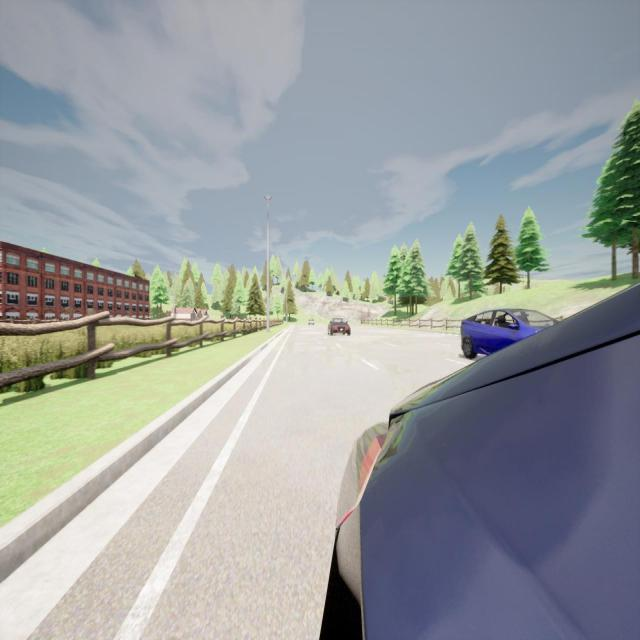Vehicle: (322, 283, 640, 638), (460, 309, 562, 360), (328, 318, 352, 336), (308, 318, 315, 326)
